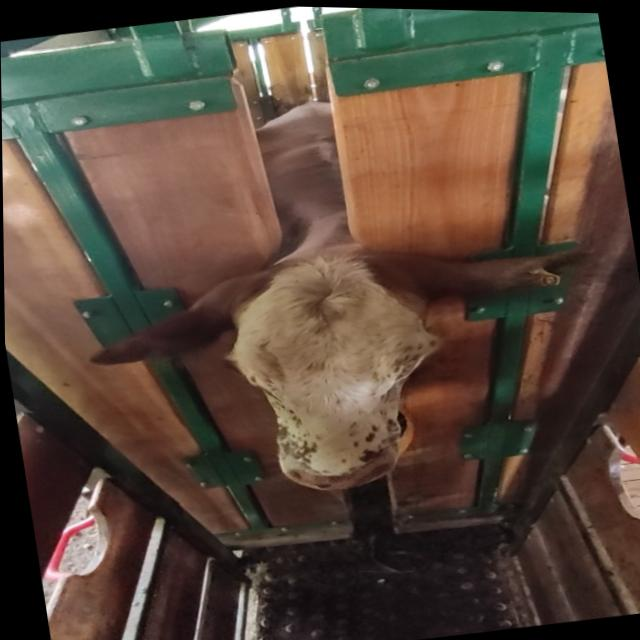cowFace: (220, 234, 463, 500)
